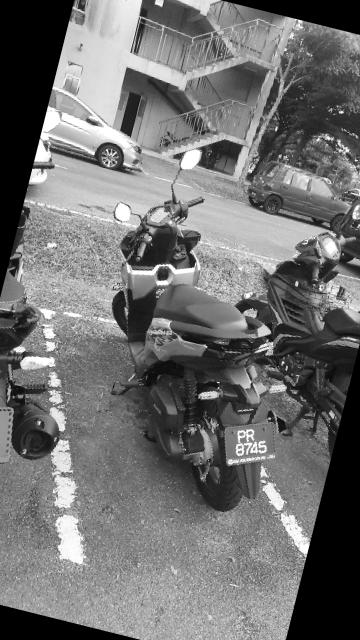License_Plate: (214, 410, 293, 482), (1, 383, 38, 483)
car: (38, 80, 161, 179), (247, 156, 360, 236)
motorcycle: (49, 113, 346, 522), (1, 148, 128, 574), (199, 181, 360, 480)
